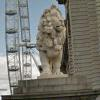Statue: (29, 4, 70, 73)
